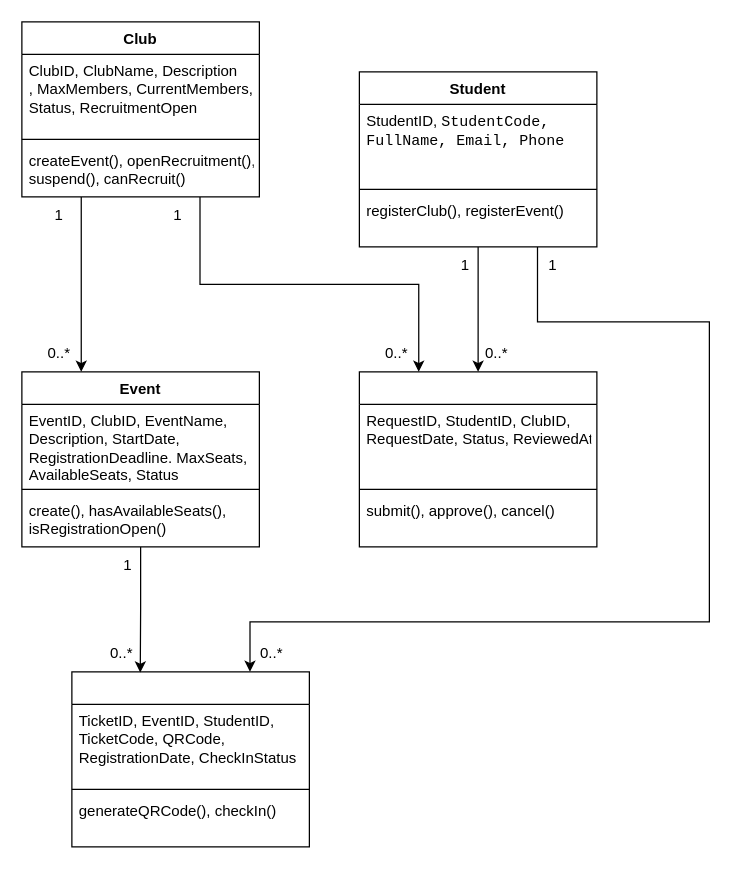
Some shapes in this 741 by 873 pixel diagram are drawn without their labels. The box of each missing label's shape, as (x1, y1, x2, y2) in pixels:
EventTicket: (71, 671, 309, 847)
MembershipRequest: (358, 371, 597, 547)
